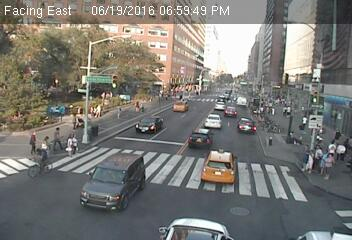neg: (252, 177, 288, 225), (152, 99, 178, 134), (19, 50, 41, 80), (41, 64, 60, 90), (227, 181, 242, 202), (76, 85, 89, 103), (159, 155, 172, 172), (90, 68, 102, 83), (109, 49, 120, 64), (164, 200, 175, 215), (188, 99, 199, 113), (210, 93, 221, 107), (176, 60, 187, 74), (16, 92, 27, 105), (147, 52, 156, 64), (226, 78, 231, 85)
pos: (322, 138, 344, 167), (19, 129, 40, 157), (323, 153, 343, 181), (49, 126, 67, 150), (302, 151, 320, 174), (72, 132, 89, 156), (301, 113, 314, 132), (112, 103, 125, 120), (67, 112, 80, 129), (94, 101, 106, 117), (130, 99, 140, 112)
